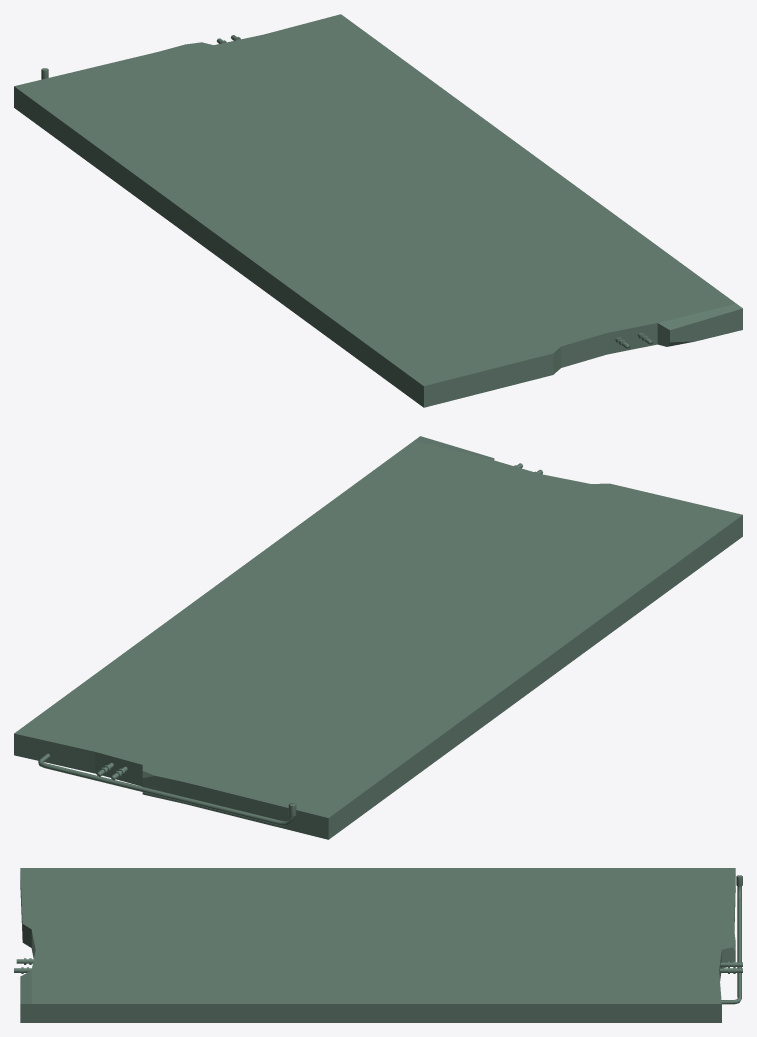
The model's file is longcFloor1_LP.fbx.
3 renders of one model, top to bottom at view 1: azimuth 30°, elevation 25°; view 2: azimuth 150°, elevation 25°; view 3: azimuth 270°, elevation 25°, orthographic. The views are drawn at different scales.
Parts seen in each view (by area): view 1: longcFloor1_LP; view 2: longcFloor1_LP, longcFloor4_LP; view 3: longcFloor1_LP, longcFloor4_LP.
Part boxes in pixels (x1,y1,x2,y2): longcFloor1_LP: (14, 14, 742, 407); longcFloor1_LP: (14, 436, 742, 839); longcFloor4_LP: (38, 463, 542, 825); longcFloor1_LP: (20, 868, 735, 1022); longcFloor4_LP: (14, 875, 742, 1004).
Size of the model in its own units: 1000 by 85.09 by 2268.
